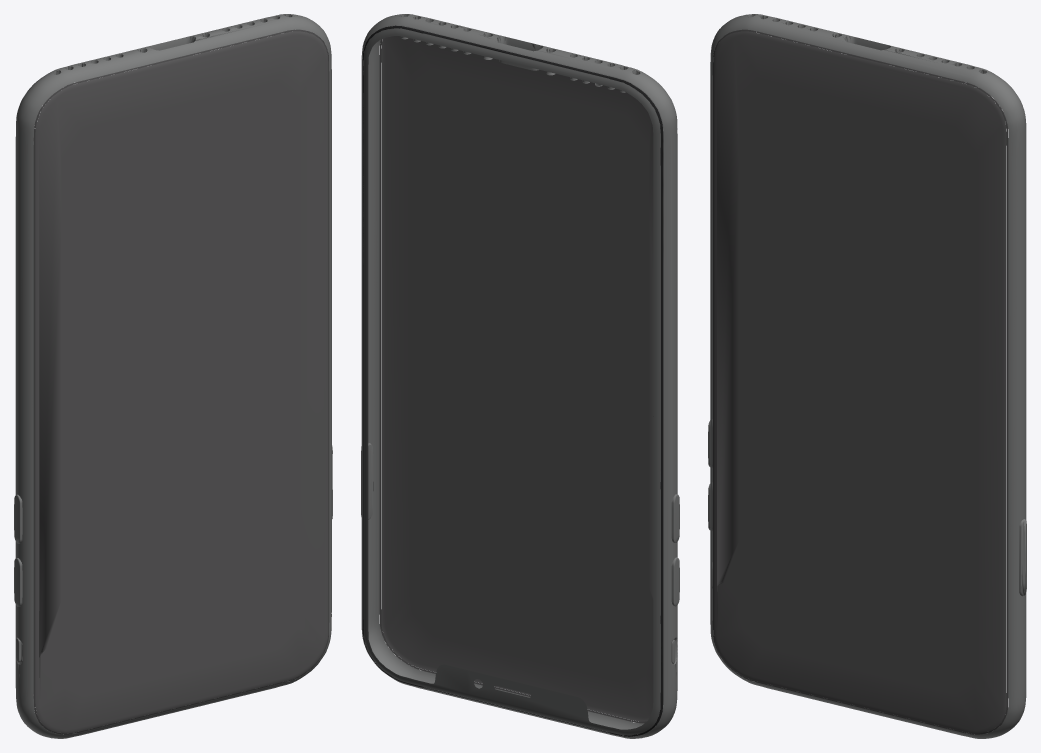
Rendered from iPhone-v2.gltf.
The picture shows the model from 3 angles, left to right: view 1: azimuth 30°, elevation 25°; view 2: azimuth 150°, elevation 25°; view 3: azimuth 330°, elevation 25°; orthographic projection.
Visible parts, largest first — view 1: iphonex; view 2: iphonex; view 3: iphonex.
Boxes of the visible parts, x1,y1,x2,y2 form: iphonex: (14, 14, 332, 738); iphonex: (361, 14, 679, 738); iphonex: (708, 14, 1026, 738).
Bounding box in the file's own units: 1.65 × 3.36 × 0.159.
1 material, 1 textured.
